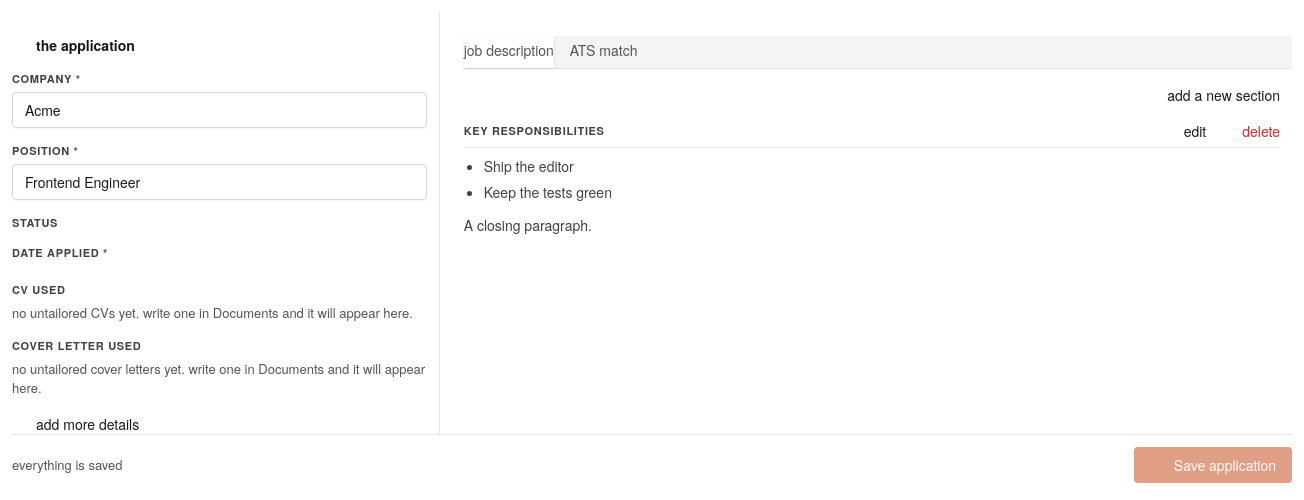
it: the job description at rest › turns ONE SECTION into a field on its own edit icon, and back again
The width and height of the screenshot is (1304, 500).
Click the button with aria-label "edit Key Responsibilities". click: (1183, 131)
box: [1160,121,1206,141]
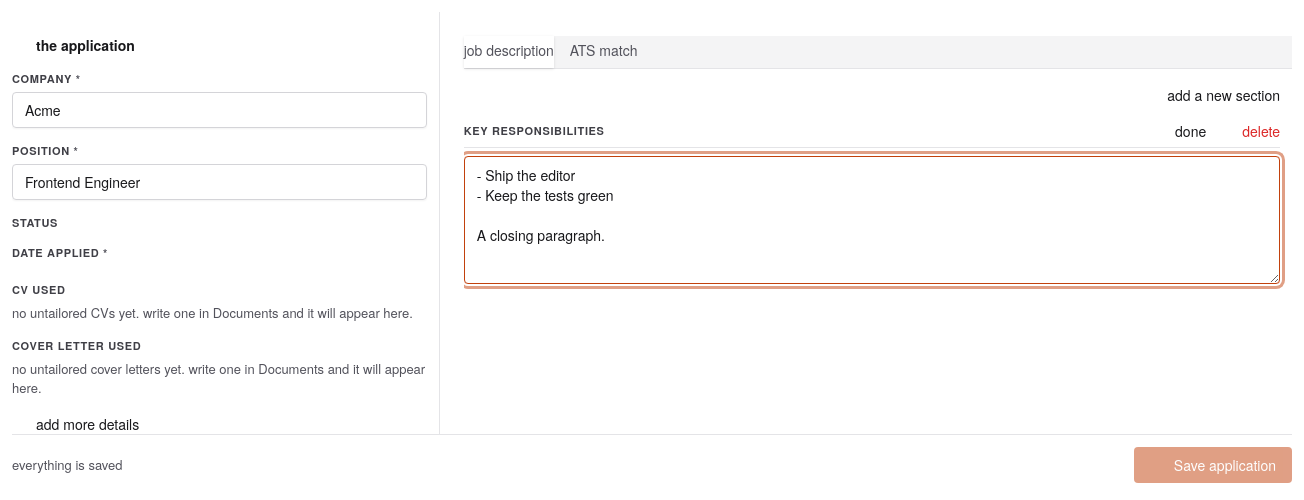
Check: the text box named "Key Responsibilities text" is shown, box [464,156,1280,284]
Click the button with aria-label "done editing Key Responsibilities". click: (1179, 131)
box: [1151,121,1206,141]
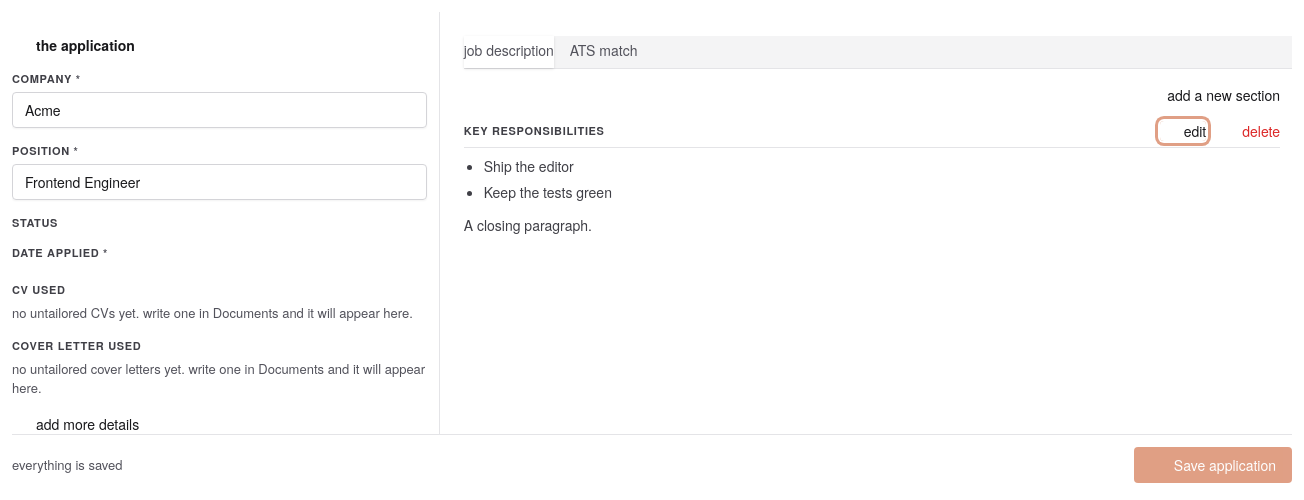
Check: the text box is gone
And its neighbour on the title row removes the section outright.
Click the button with aria-label "delete Key Responsibilities". click: (1249, 131)
box: [1218,121,1280,141]
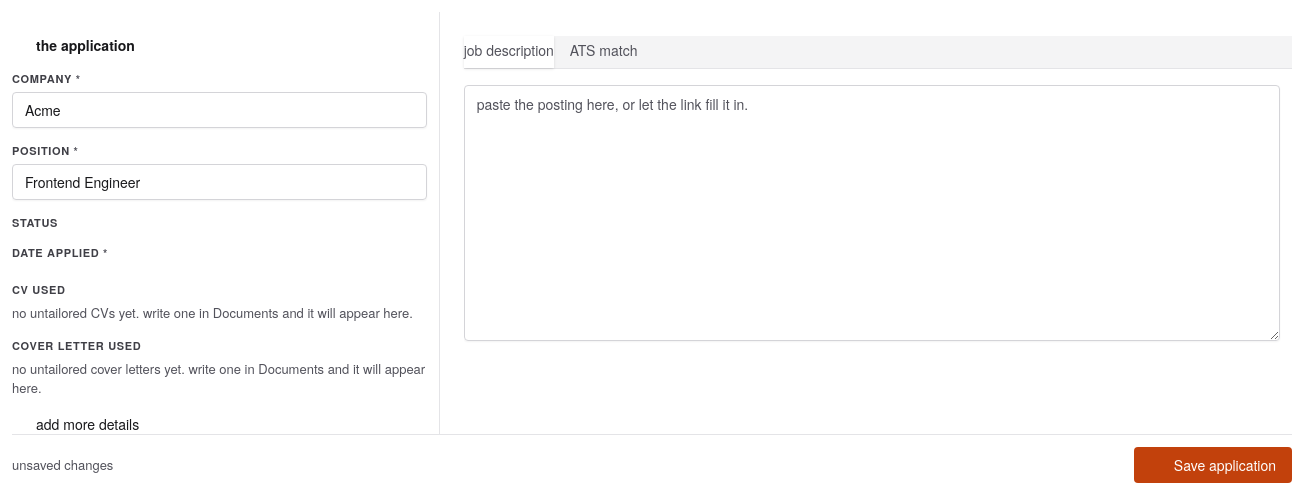
Check: the heading "Key Responsibilities" is gone
